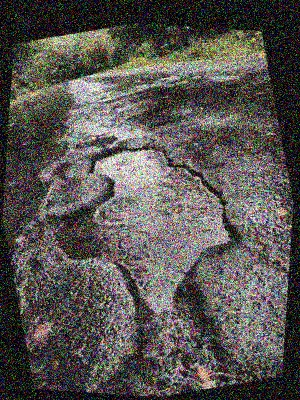pothole: (26, 114, 267, 338)
